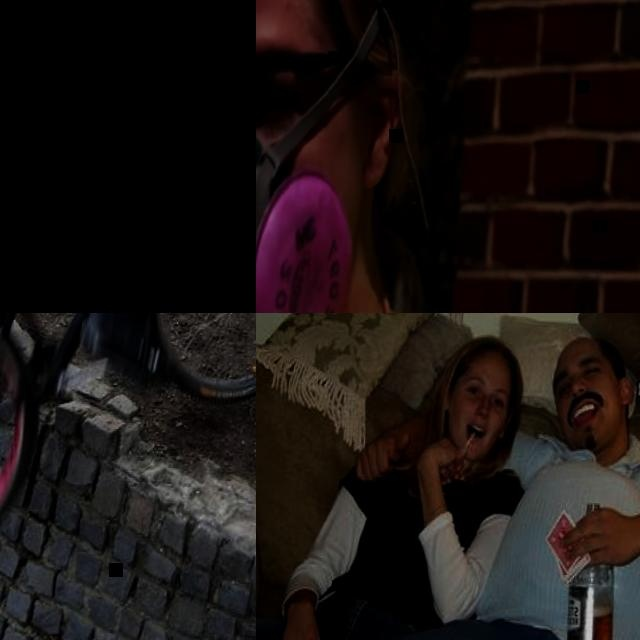Mask: (256, 91, 363, 313)
NO-Hardhat: (256, 0, 394, 35), (452, 334, 525, 379), (553, 336, 620, 367)
NO-Mask: (555, 370, 632, 450), (442, 401, 505, 460)
NO-Safety Vest: (473, 426, 640, 640), (328, 447, 514, 628)
Person: (256, 0, 626, 313), (348, 320, 640, 640), (256, 314, 534, 640), (0, 313, 256, 386)
